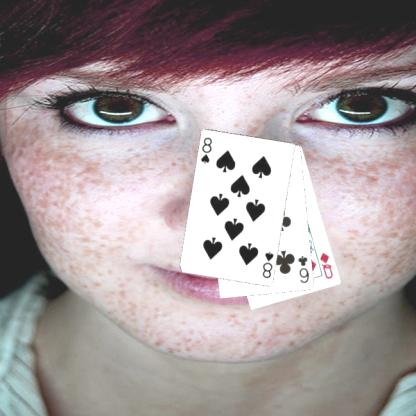6C: (295, 253, 311, 284)
8S: (260, 248, 276, 280), (198, 135, 214, 165)
QD: (317, 249, 335, 280)
